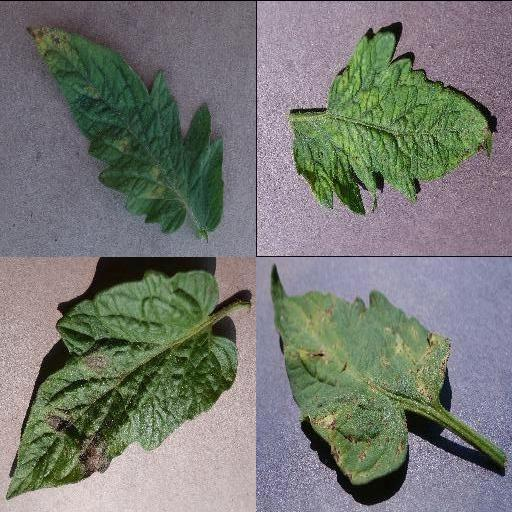Late Blight: (3, 266, 237, 498)
Leaf Mold: (24, 21, 226, 235)
Mosaic Virus: (291, 31, 495, 215)
Septoria: (268, 263, 452, 487)
